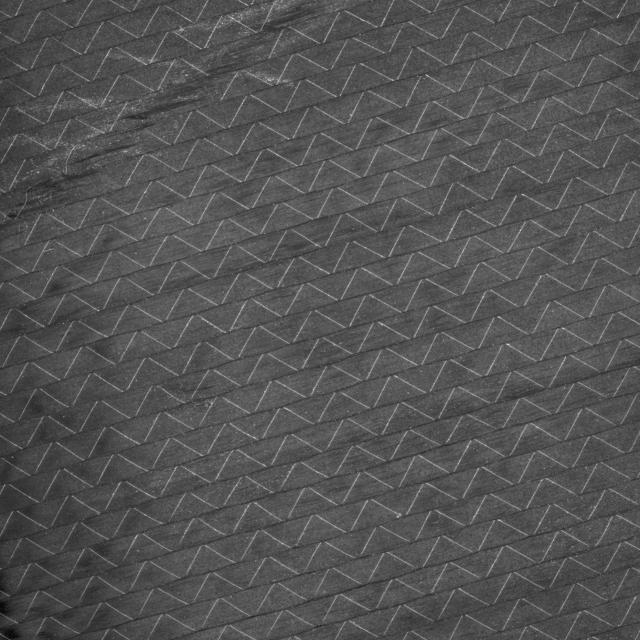carbon-fibre-defect: (4, 1, 361, 228)
